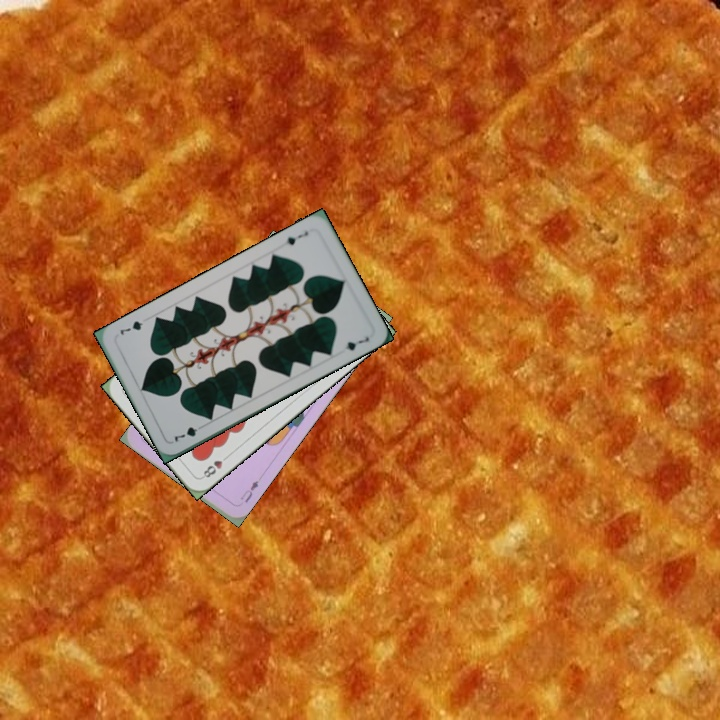EU: (236, 476, 261, 506)
G7: (170, 421, 207, 445), (282, 227, 311, 248)
H8: (198, 451, 232, 481)
